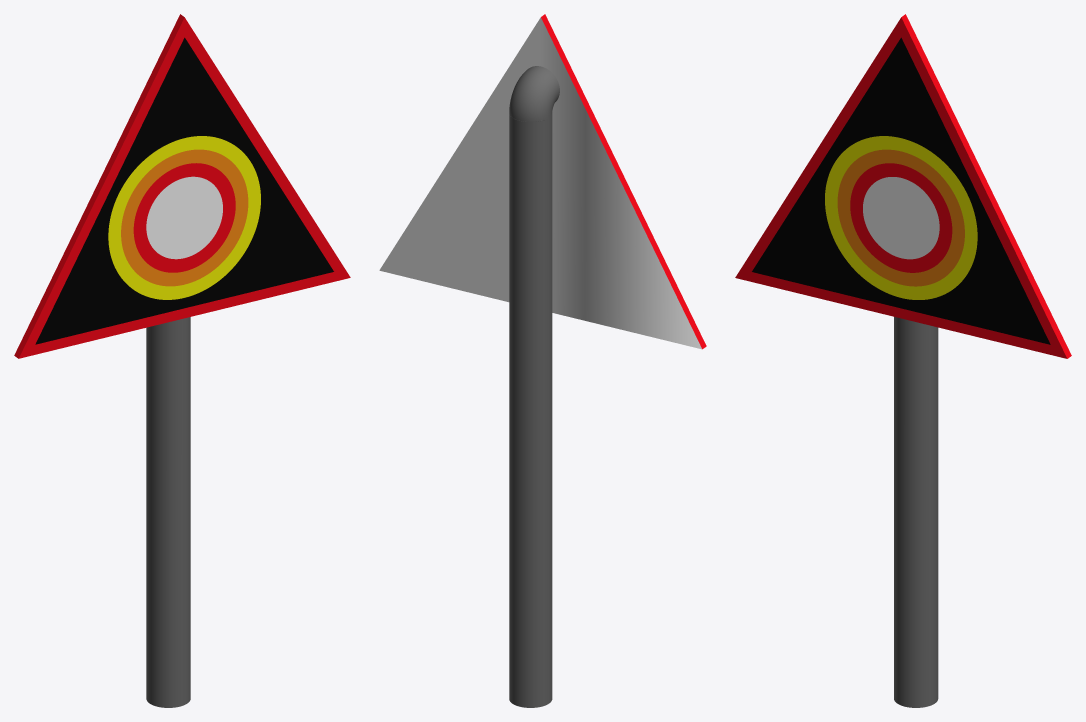
The model's file is sign_danger_strongGravitationalField.dae.
The picture shows the model from 3 angles, left to right: view 1: azimuth 30°, elevation 25°; view 2: azimuth 150°, elevation 25°; view 3: azimuth 330°, elevation 25°; orthographic projection. The views are drawn at different scales.
Visible parts, largest first — view 1: Component_2 (×7); view 2: Component_2 (×3); view 3: Component_2 (×7).
Part boxes in pixels (x1,y1,x2,y2): Component_2 (×7): (14,14,350,707); Component_2 (×3): (379,14,706,707); Component_2 (×7): (735,14,1071,707).
Size of the model in its own units: 341 by 47.22 by 679.
